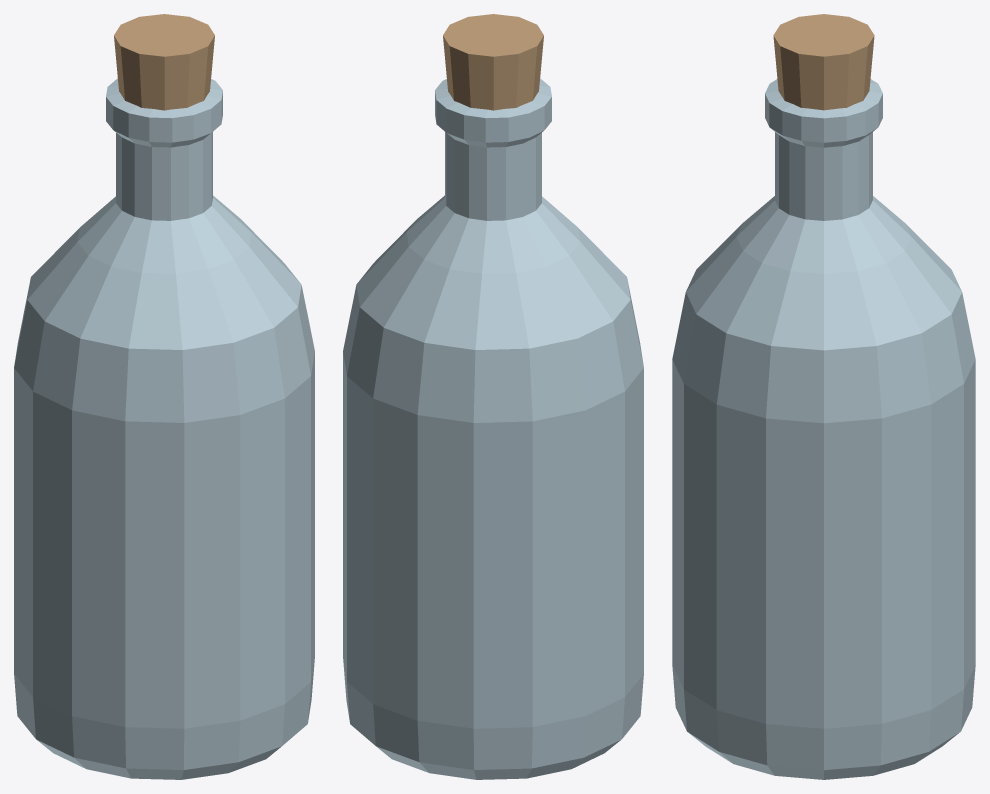
Rendered from Item_TonicBottle_AMF_T2.glb.
3 views of the same model, side by side, from view 1: azimuth 30°, elevation 25°; view 2: azimuth 150°, elevation 25°; view 3: azimuth 270°, elevation 25° (orthographic).
Visible parts, largest first — view 1: Item_TonicBottle_AMF_T2; view 2: Item_TonicBottle_AMF_T2; view 3: Item_TonicBottle_AMF_T2.
Boxes of the visible parts, x1,y1,x2,y2 form: Item_TonicBottle_AMF_T2: [14, 14, 314, 779]; Item_TonicBottle_AMF_T2: [343, 14, 643, 779]; Item_TonicBottle_AMF_T2: [672, 14, 975, 779].
Size of what is drawn, in the model's own units: 0.09 by 0.226 by 0.09.
